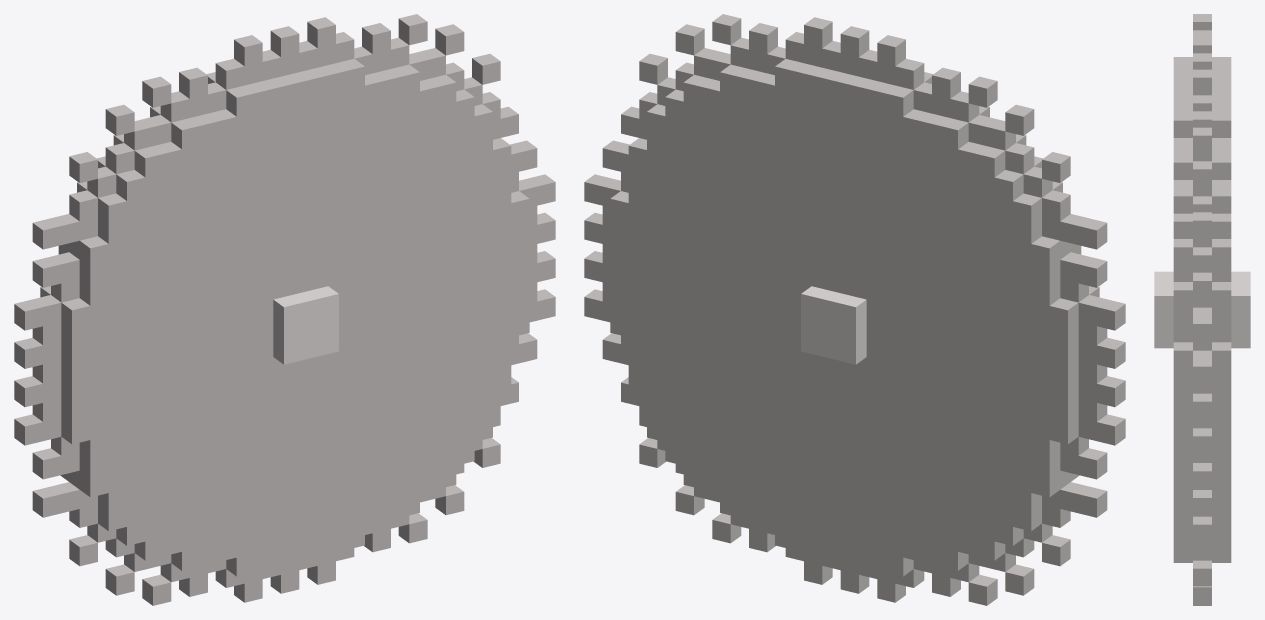
Rendered from saw-0.obj.
The picture shows the model from 3 angles, left to right: view 1: azimuth 30°, elevation 25°; view 2: azimuth 150°, elevation 25°; view 3: azimuth 270°, elevation 25°; orthographic projection. The views are drawn at different scales.
Size of the model in its own units: 2.9 by 2.9 by 0.5.
Materials: 1 (1 with a texture image).
